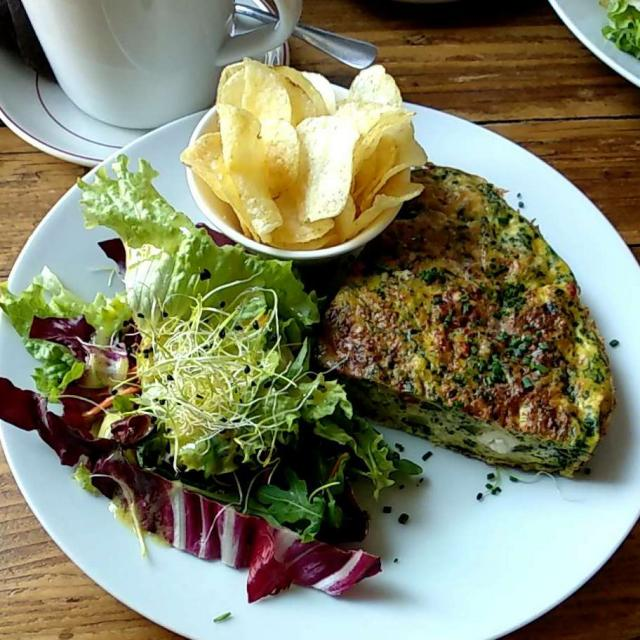alfa-sprouts: (97, 277, 319, 512)
crisps: (186, 64, 415, 246)
mixed-salad-chopped-without-sauce: (17, 154, 375, 592)
